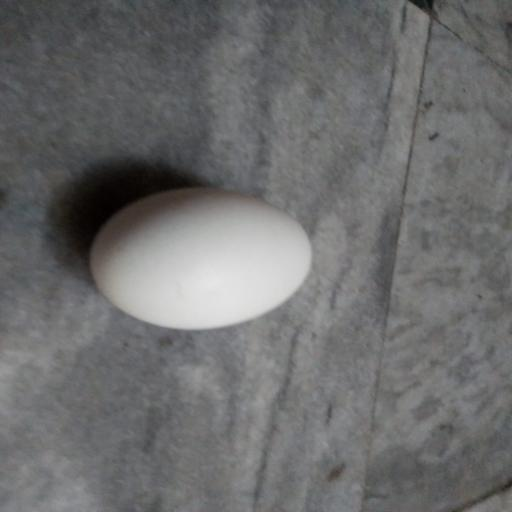telur: (78, 182, 318, 336)
